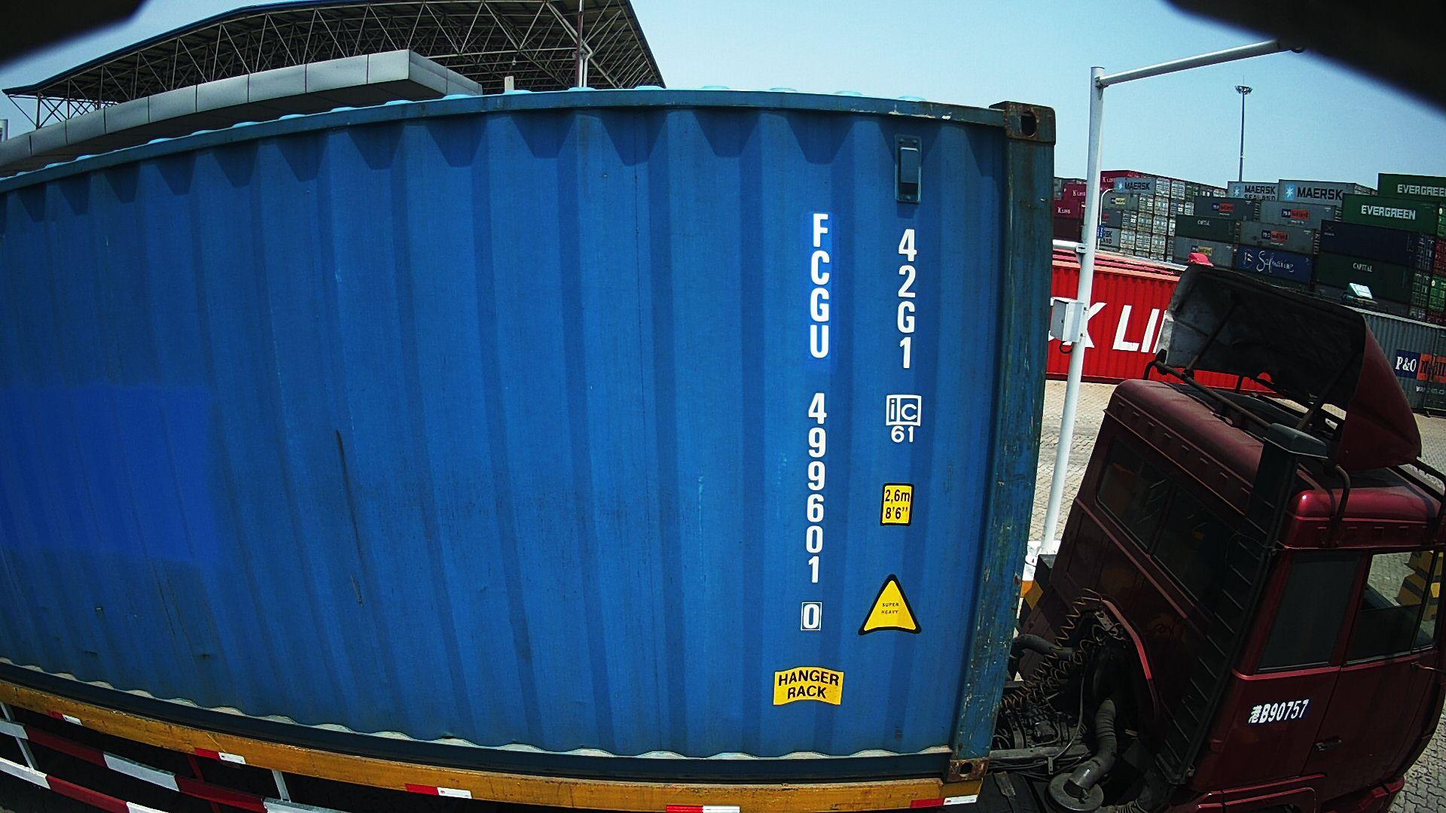container-numbers: (795, 211, 833, 637), (891, 224, 922, 374)
